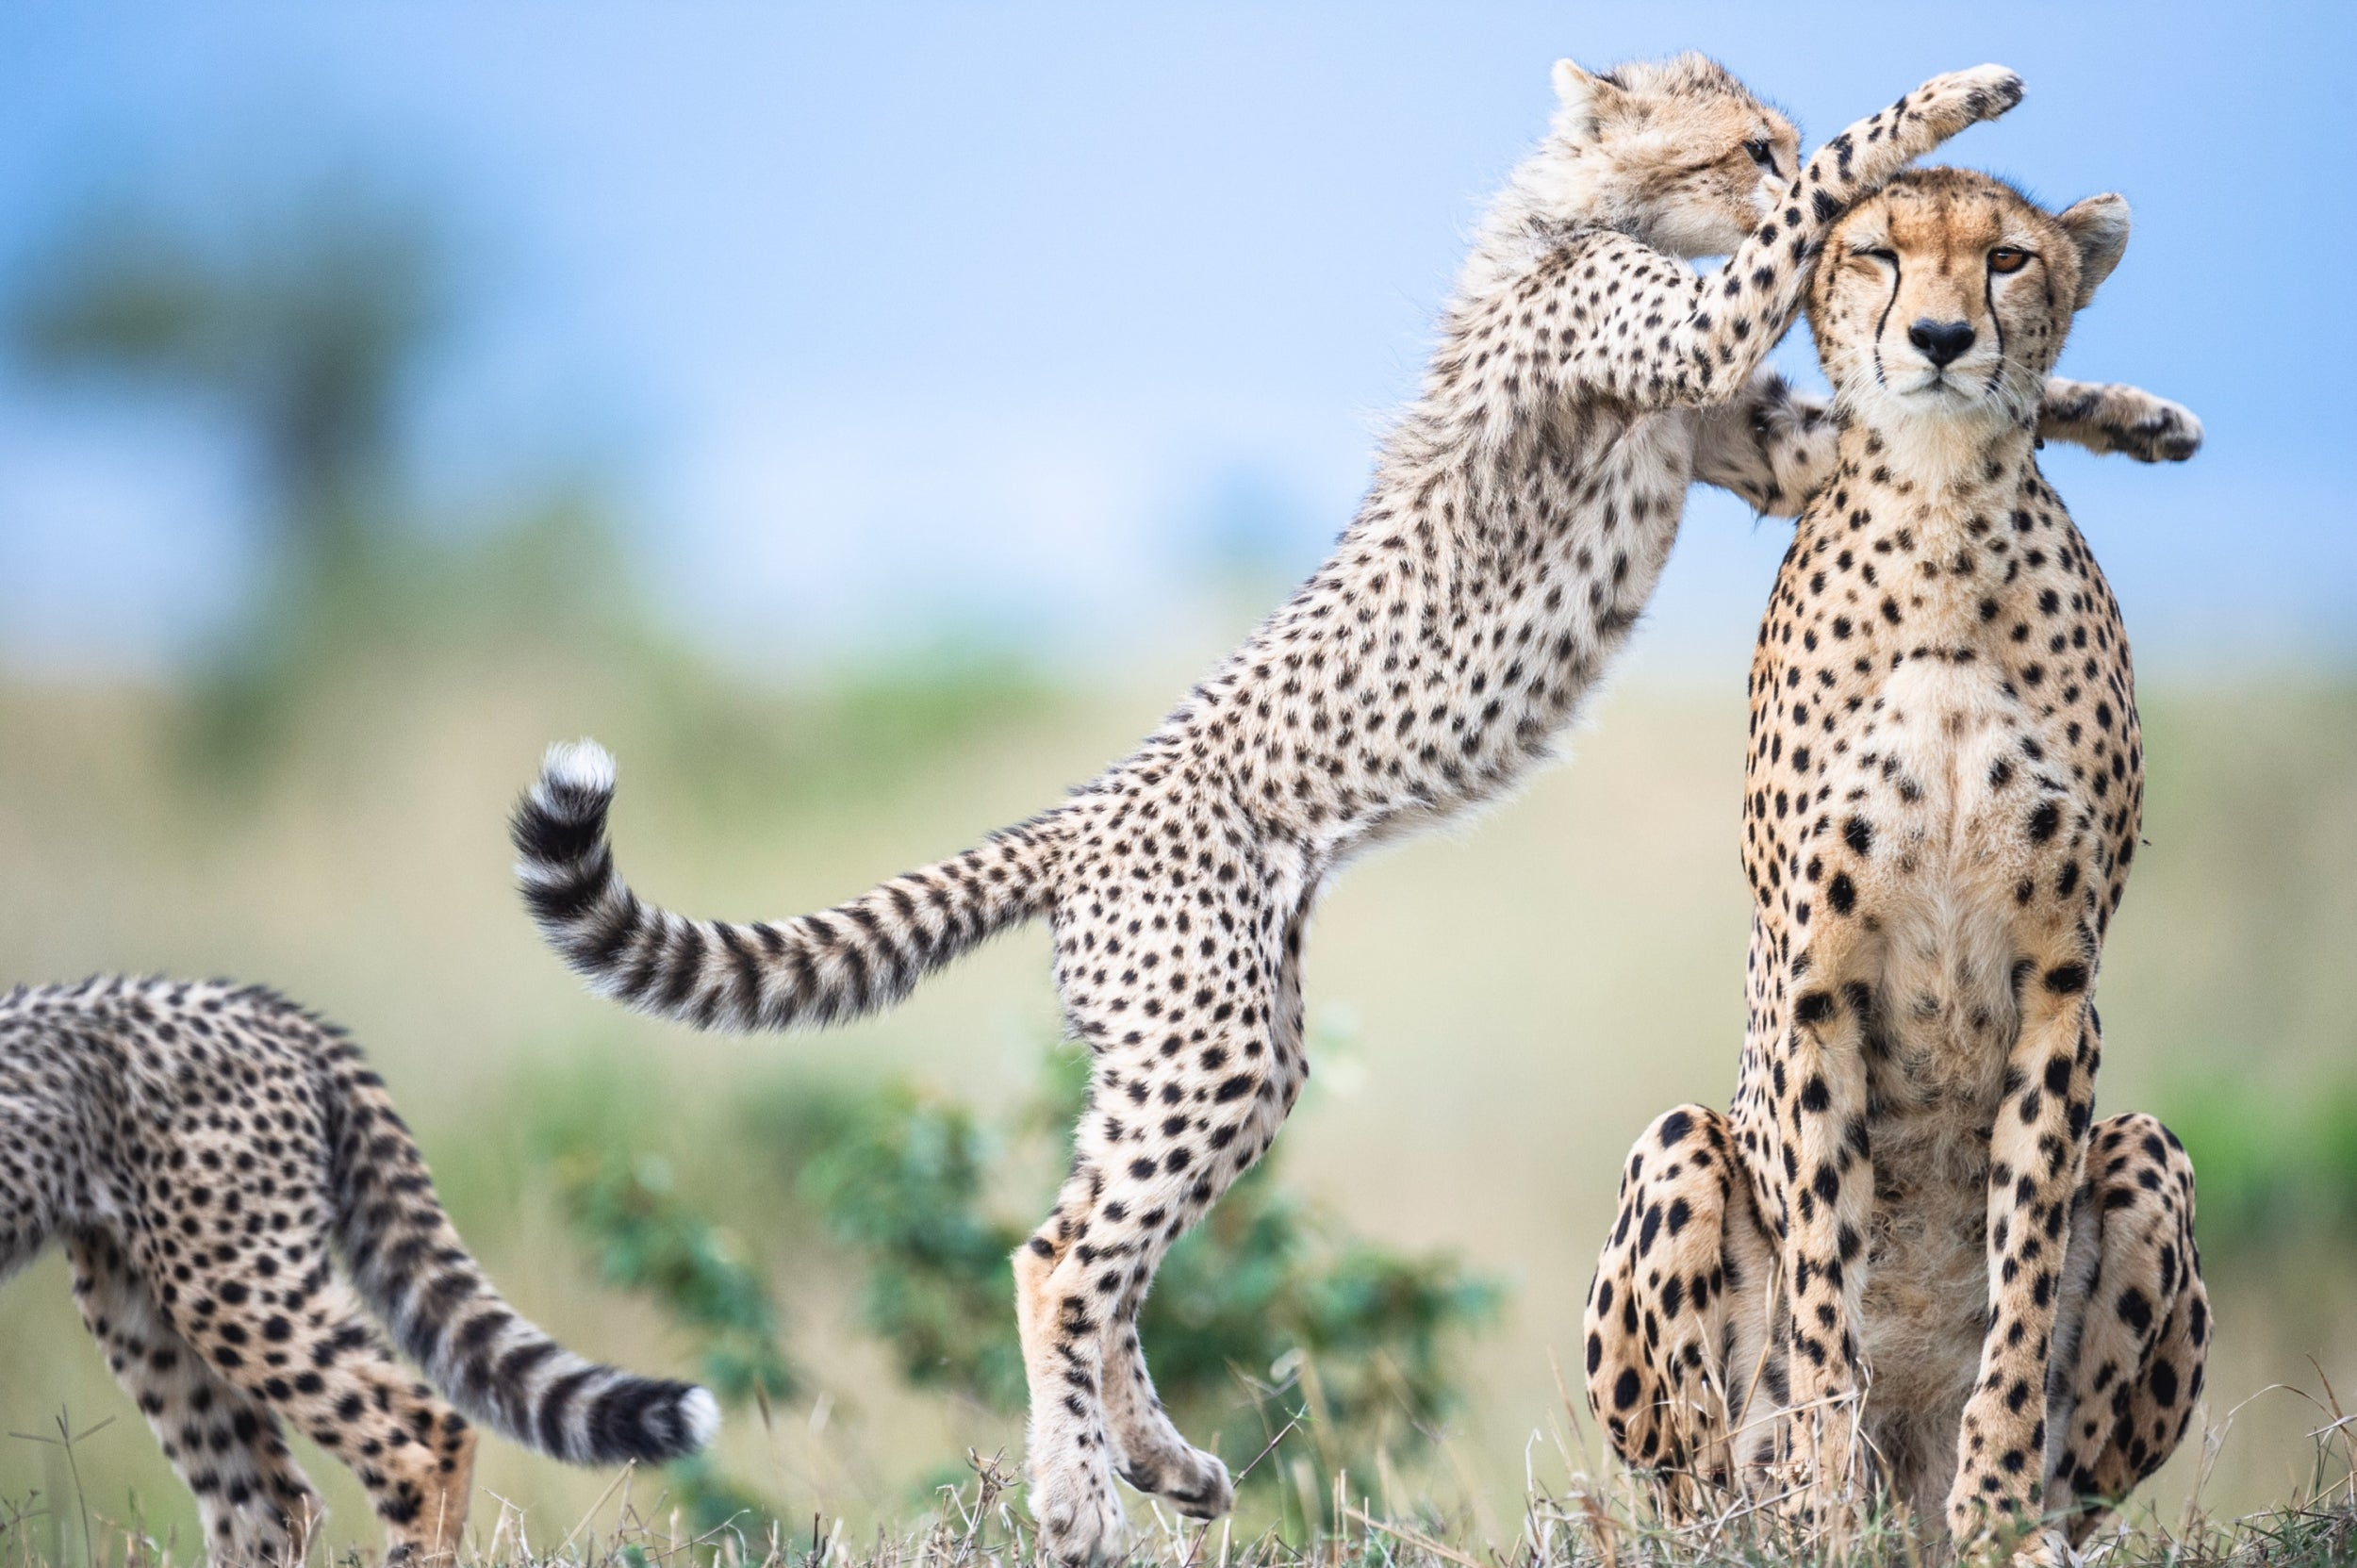cheetah: (1820, 164, 2140, 481)
